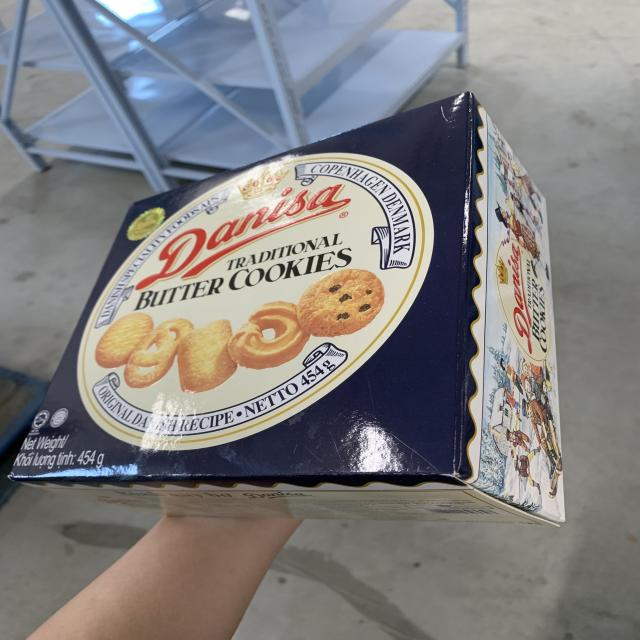object_name: (64, 188, 543, 523)
